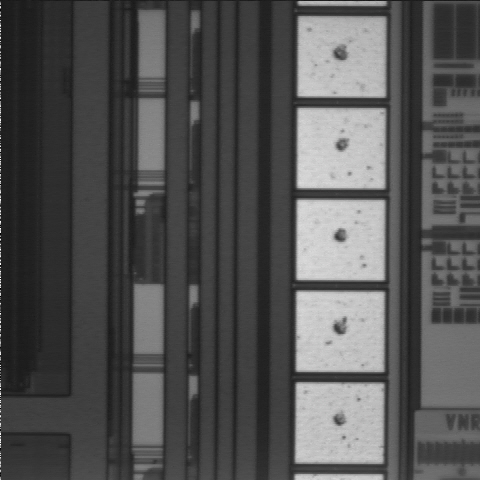pad: (297, 108, 385, 188), (298, 17, 385, 97), (297, 200, 384, 280), (297, 292, 384, 372), (296, 383, 383, 463)
